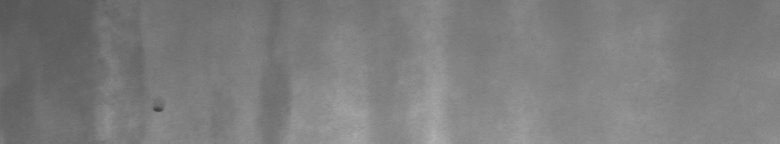fi: (149, 104, 168, 120)
